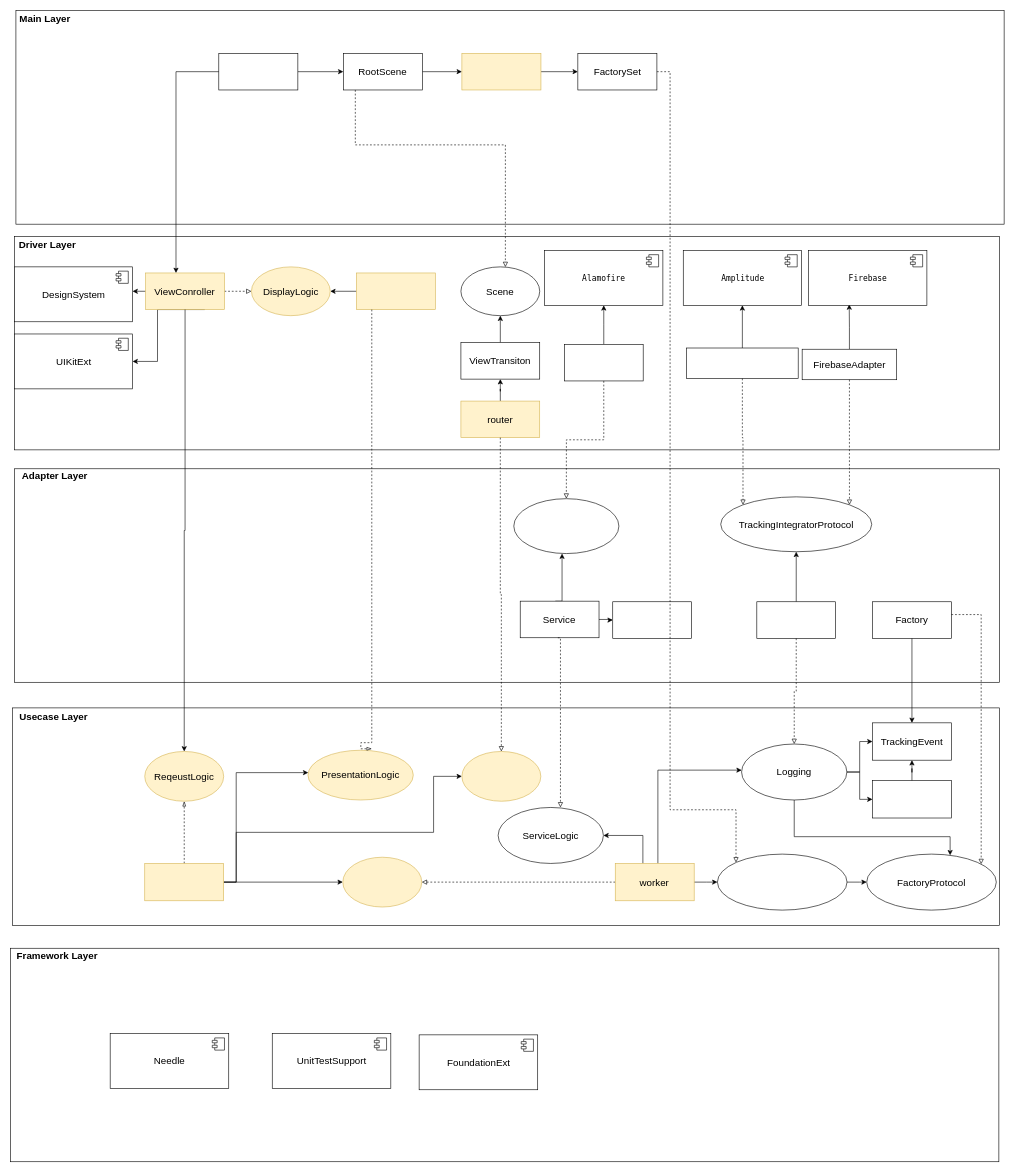
Image size: 1015x1172. Some labels were removed from this diagram. Here are the shapes that lost their labels. From the top down, the centre of each, then its label:
At (x=258, y=71): "AppDelegate".
At (x=501, y=71): "RootBuilder".
At (x=395, y=291): "Presenter".
At (x=603, y=362): "Networking".
At (x=742, y=363): "AmplitudeAdapter".
At (x=566, y=526): "NetworkingLogic".
At (x=652, y=619): "API".
At (x=796, y=619): "Logger".
At (x=501, y=776): "RoutingLogic".
At (x=911, y=799): "TrackingModel".
At (x=184, y=882): "Interactor".
At (x=382, y=882): "workingLogic".
At (x=782, y=882): "FactorySetDependency".
